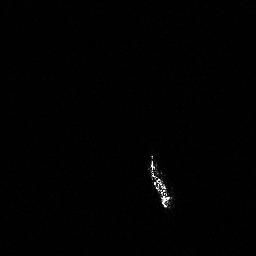ship: (144, 151, 178, 212)
